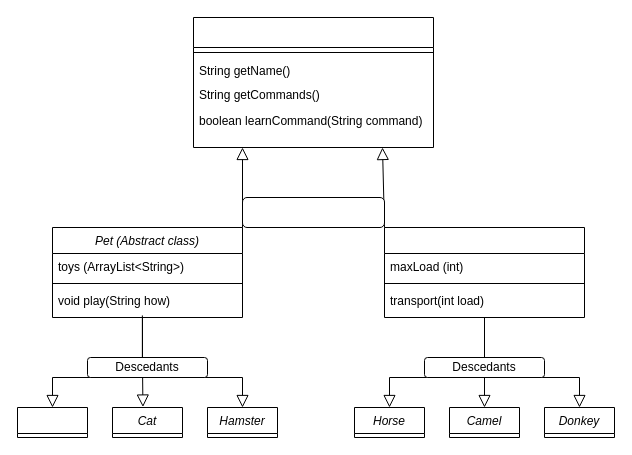
This 632x455 diagram has some shape labels left out. The box of each missing label's shape, as (x1, y1, x2, y2) in pixels:
Animal (Interface): (192, 16, 434, 148)
Dog: (16, 406, 88, 438)
Implementations: (242, 196, 384, 228)
PackAnimal (Abstract class): (384, 226, 584, 318)
